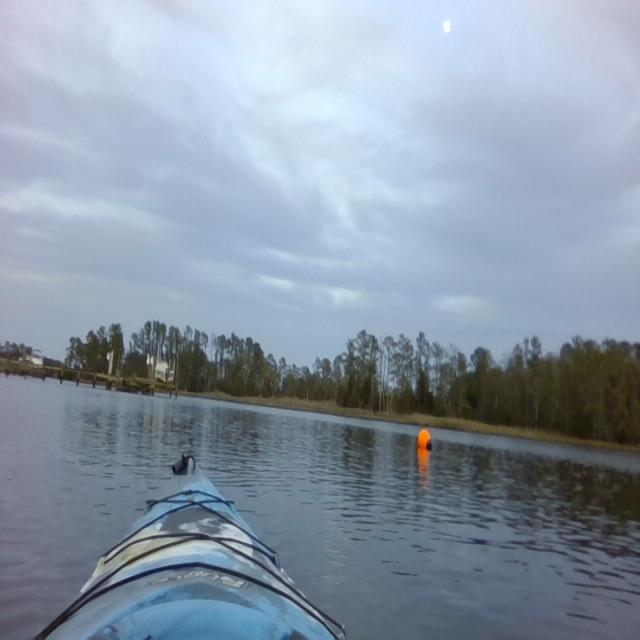Buoy: (416, 426, 434, 456)
